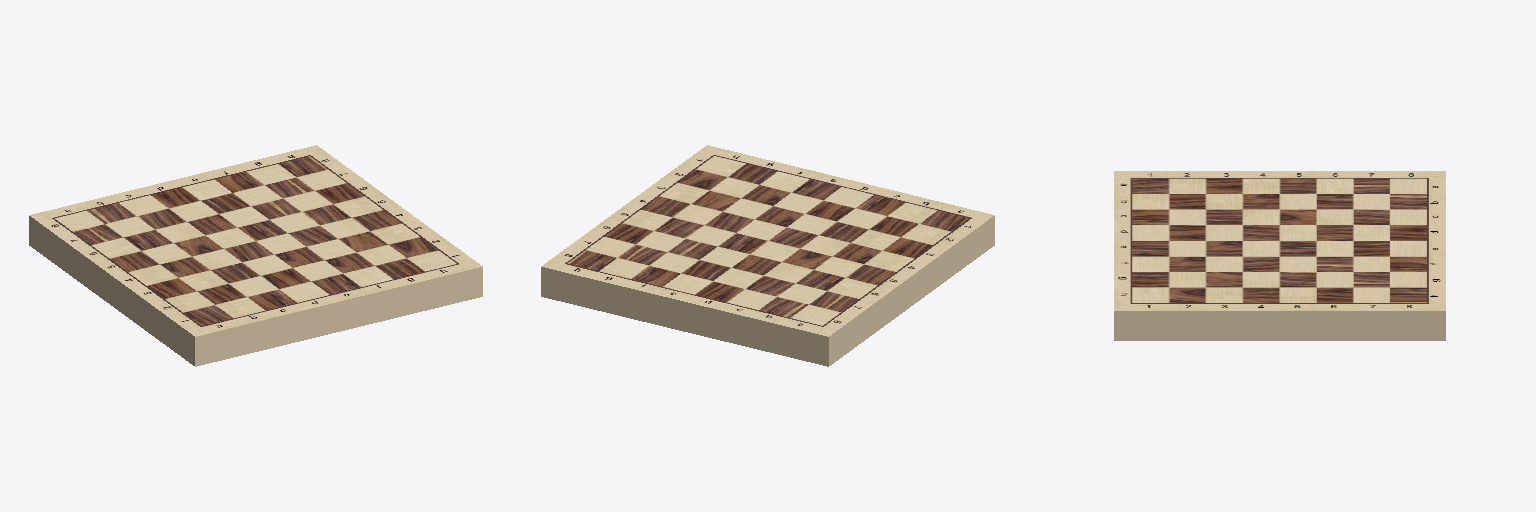
3 renders of one model, left to right at view 1: azimuth 30°, elevation 25°; view 2: azimuth 150°, elevation 25°; view 3: azimuth 270°, elevation 25°, orthographic.
Parts seen in each view (by area): view 1: Cube; view 2: Cube; view 3: Cube.
Boxes of the visible parts, x1=… form: Cube: x1=29, y1=145, x2=482, y2=366; Cube: x1=541, y1=145, x2=994, y2=366; Cube: x1=1114, y1=171, x2=1445, y2=340.
Size of the model in its own units: 4 by 0.4 by 4.
1 materials, 1 textured.